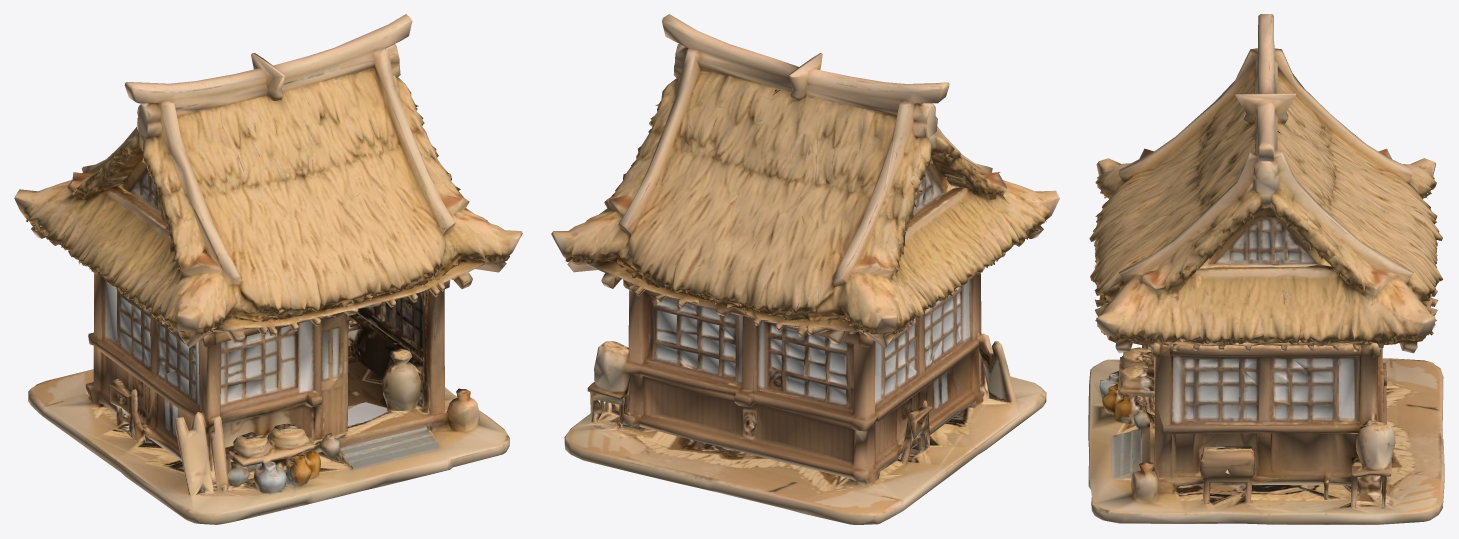
Rendered from house-trad.glb.
3 views of the same model, side by side, from view 1: azimuth 30°, elevation 25°; view 2: azimuth 150°, elevation 25°; view 3: azimuth 270°, elevation 25° (orthographic). The views are drawn at different scales.
Visible parts, largest first — view 1: Mesh1.0; view 2: Mesh1.0; view 3: Mesh1.0.
Part boxes in pixels (x1,y1,x2,y2): Mesh1.0: [14, 14, 522, 524]; Mesh1.0: [551, 14, 1059, 524]; Mesh1.0: [1088, 14, 1444, 524].
Bounding box in the file's own units: 1.82 × 1.9 × 1.67.
1 material, 1 textured.
